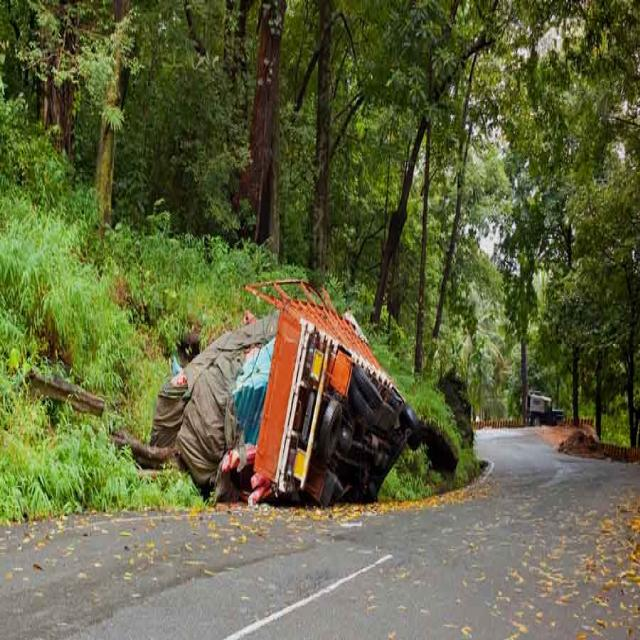accident: (246, 280, 425, 505)
